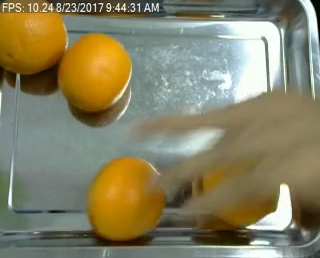Orange: (87, 158, 167, 239), (58, 31, 132, 112), (1, 1, 69, 73)
